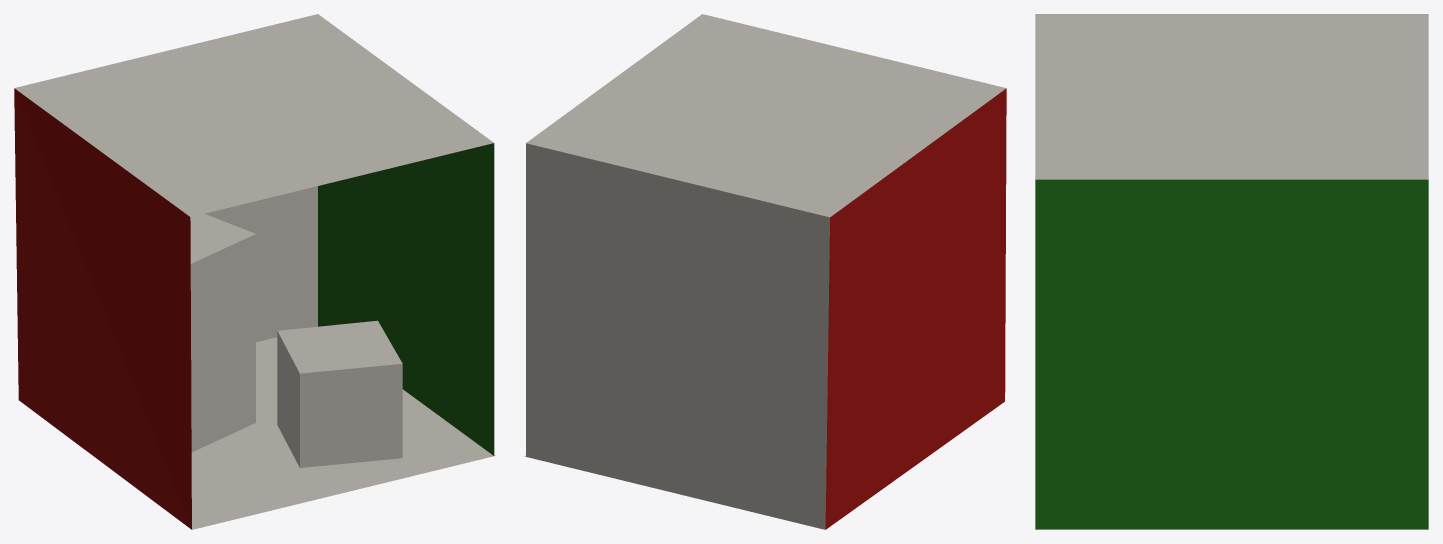
The model's file is CornellBox-Original.obj.
The picture shows the model from 3 angles, left to right: view 1: azimuth 30°, elevation 25°; view 2: azimuth 150°, elevation 25°; view 3: azimuth 270°, elevation 25°; orthographic projection. The views are drawn at different scales.
Visible parts, largest first — view 1: leftWall, ceiling, rightWall, floor, shortBox, tallBox, backWall; view 2: backWall, leftWall, ceiling; view 3: rightWall, ceiling.
Boxes of the visible parts, left/top/right/bottom form: leftWall: left=14, top=88, right=191, bottom=529; ceiling: left=14, top=14, right=493, bottom=216; rightWall: left=318, top=143, right=494, bottom=455; floor: left=191, top=337, right=495, bottom=529; shortBox: left=277, top=320, right=402, bottom=467; tallBox: left=190, top=213, right=255, bottom=452; backWall: left=205, top=186, right=317, bottom=342; backWall: left=526, top=143, right=829, bottom=529; leftWall: left=825, top=88, right=1006, bottom=529; ceiling: left=526, top=14, right=1006, bottom=217; rightWall: left=1035, top=179, right=1428, bottom=529; ceiling: left=1035, top=14, right=1428, bottom=179.
Size of the model in its own units: 2.03 by 1.99 by 2.03.
